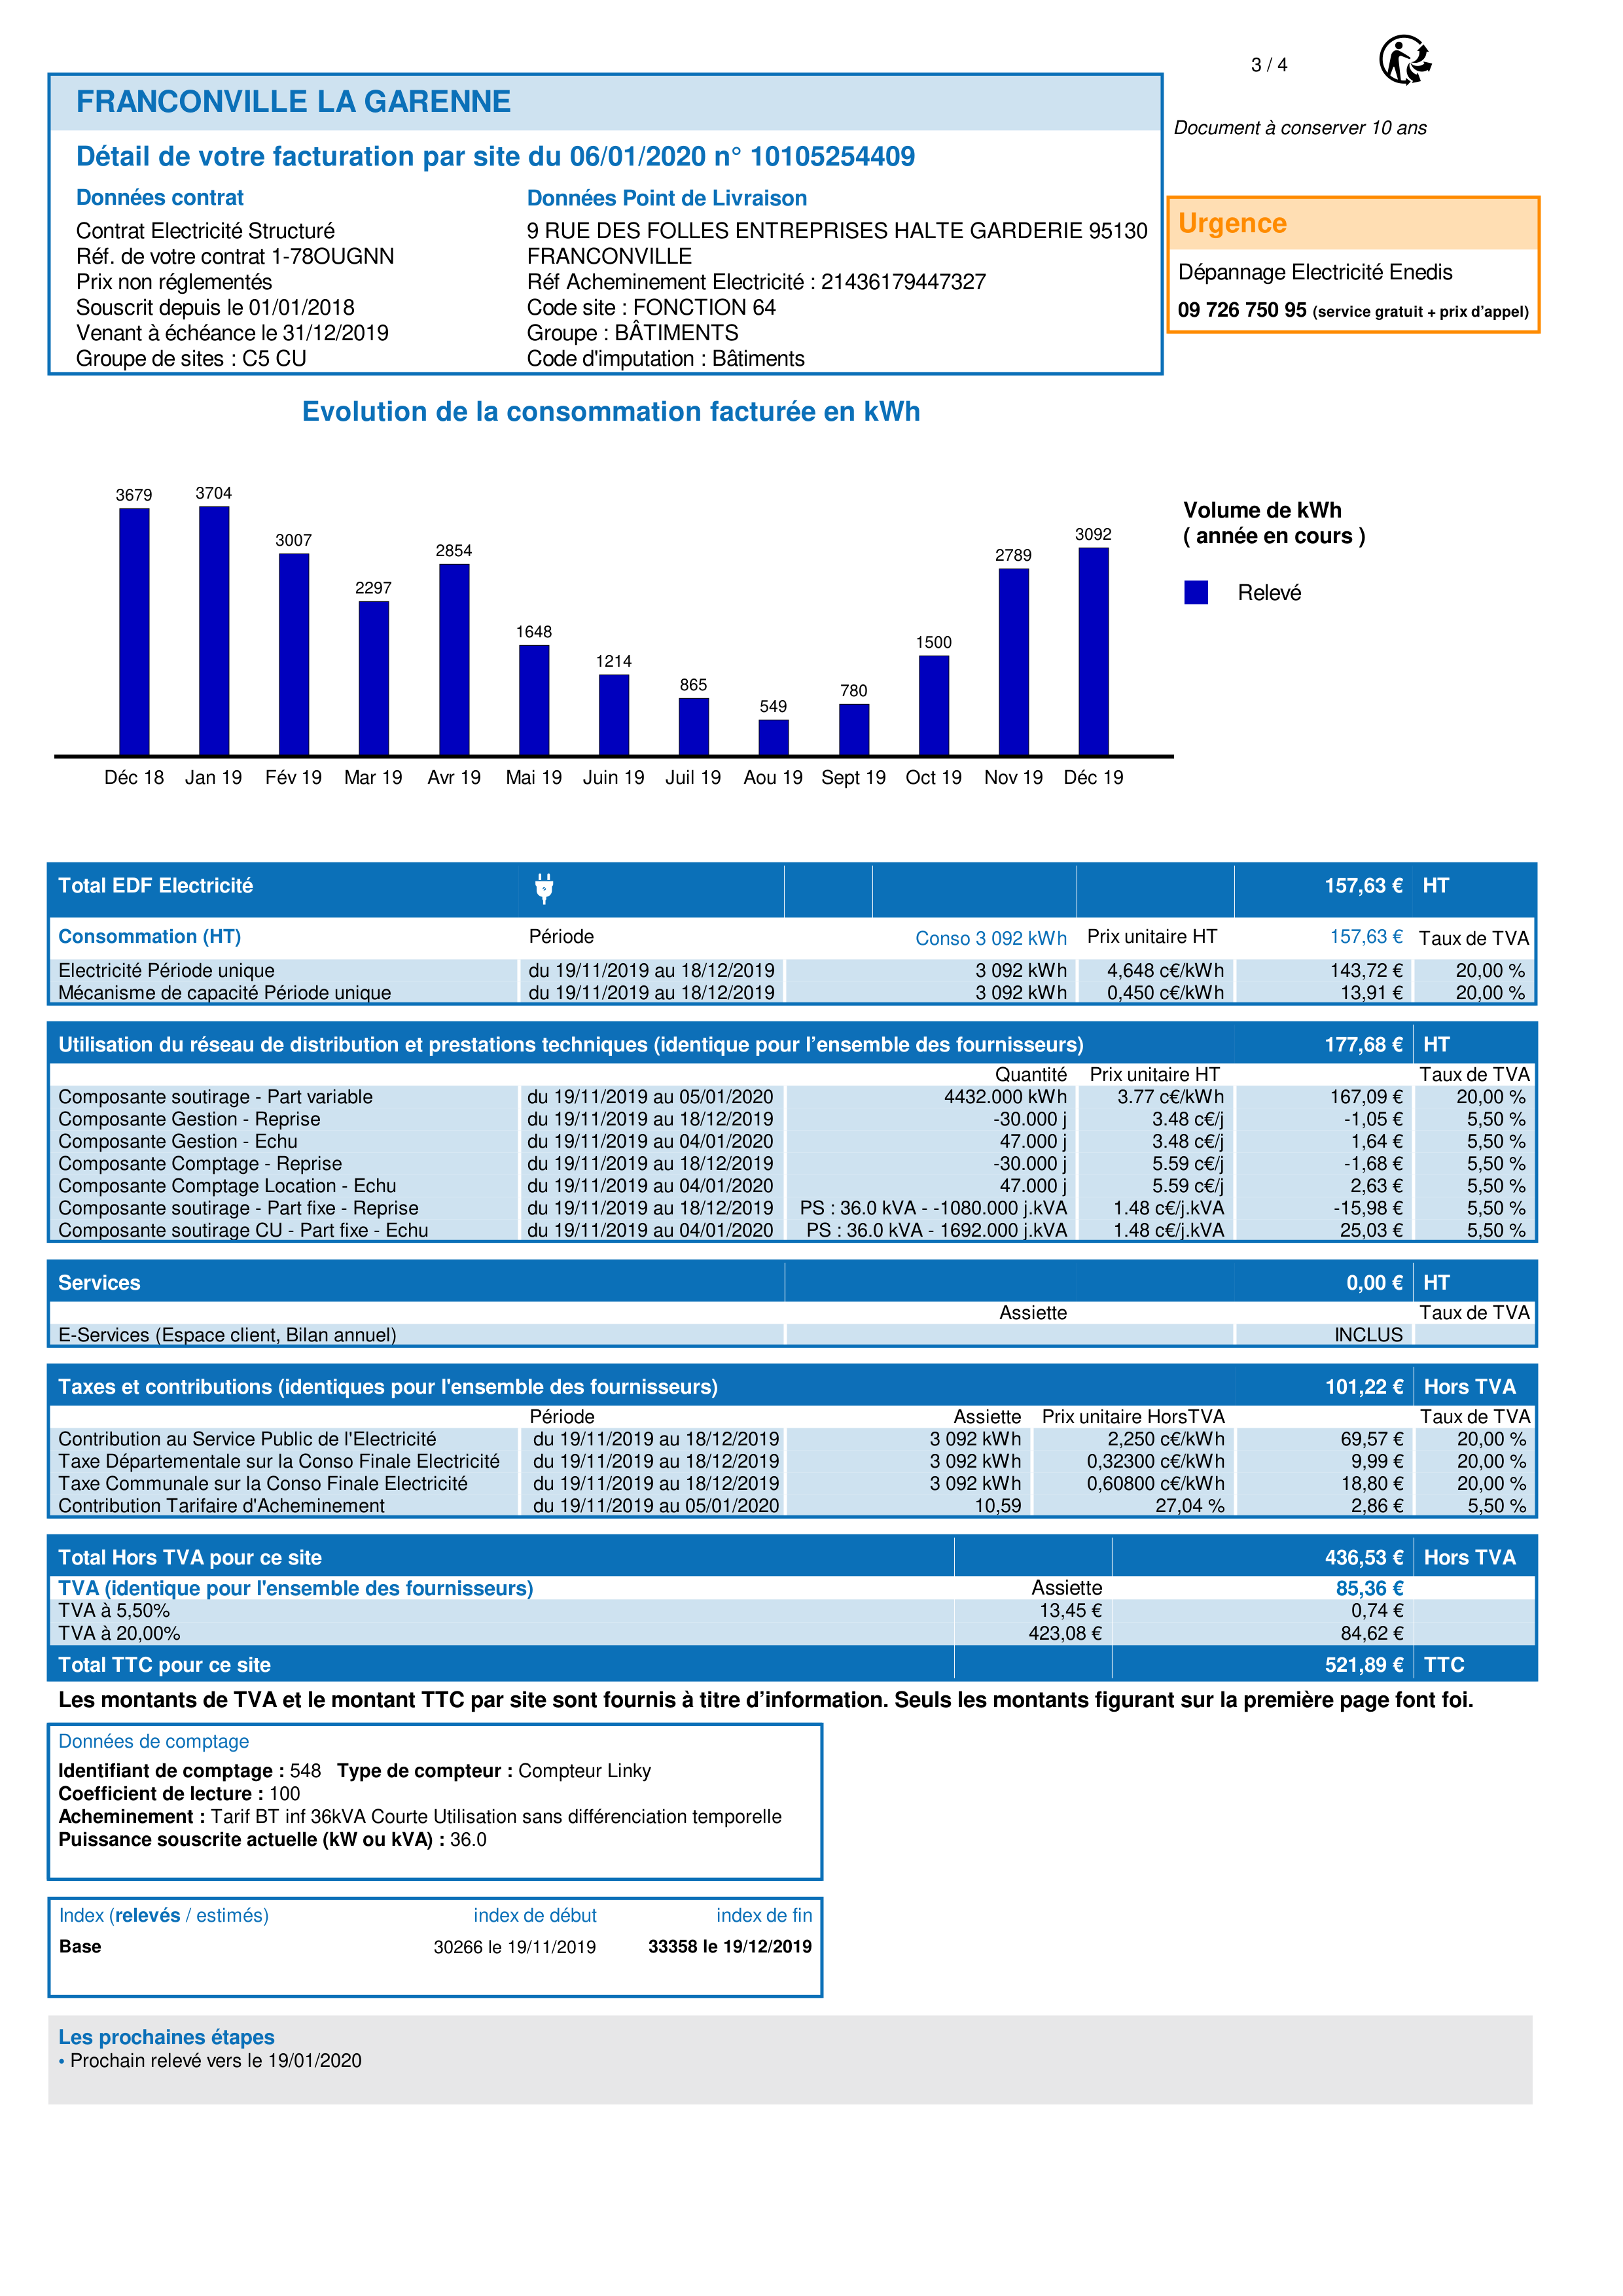area: (47, 1899, 823, 1998)
type_indicator: (50, 1898, 285, 1932)
